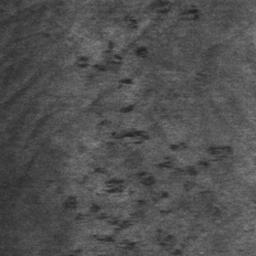Rolled in scale: (68, 93, 232, 256), (37, 0, 200, 114), (3, 67, 30, 141), (0, 0, 64, 29), (156, 229, 205, 256), (195, 71, 222, 91), (208, 207, 220, 221)
